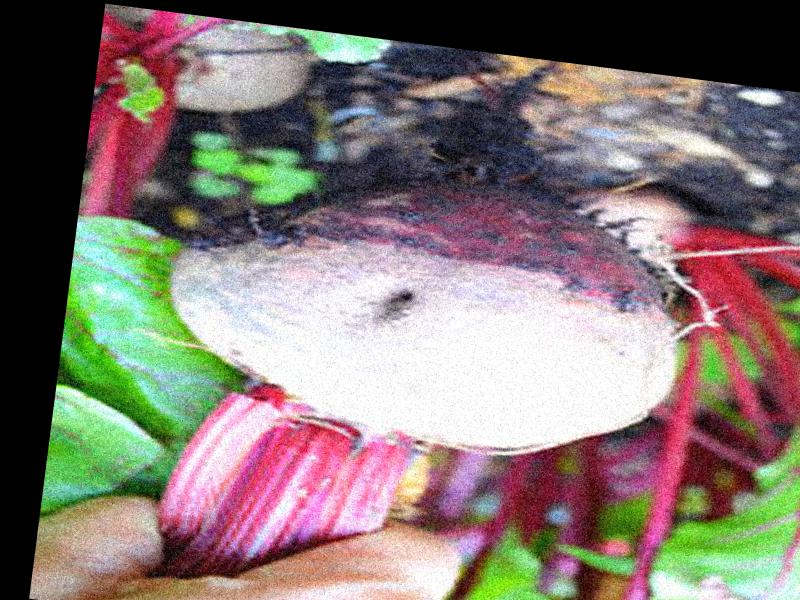Beet: (134, 15, 717, 600)
